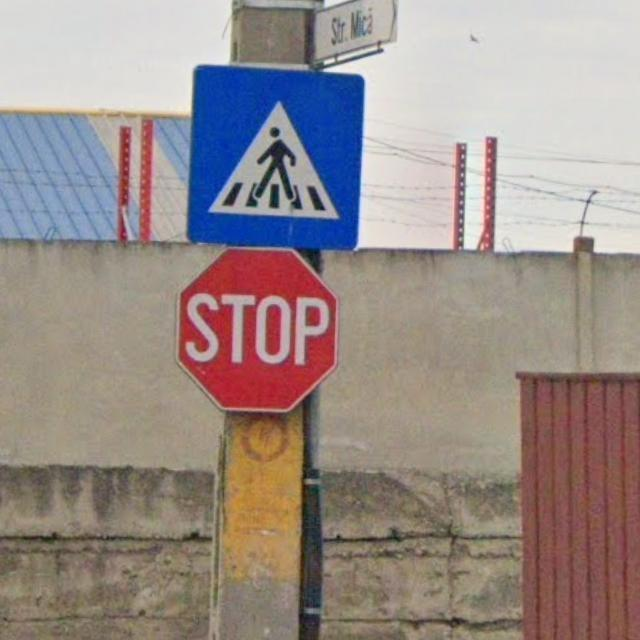info_crosswalk: (186, 61, 367, 251)
prio_stop: (176, 248, 338, 416)
